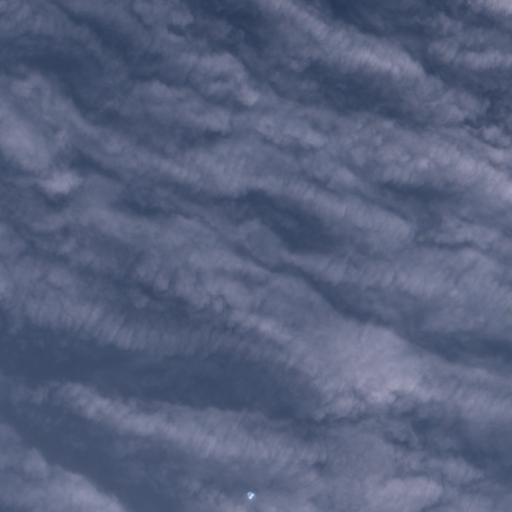Iceberg: (248, 492, 253, 498)
